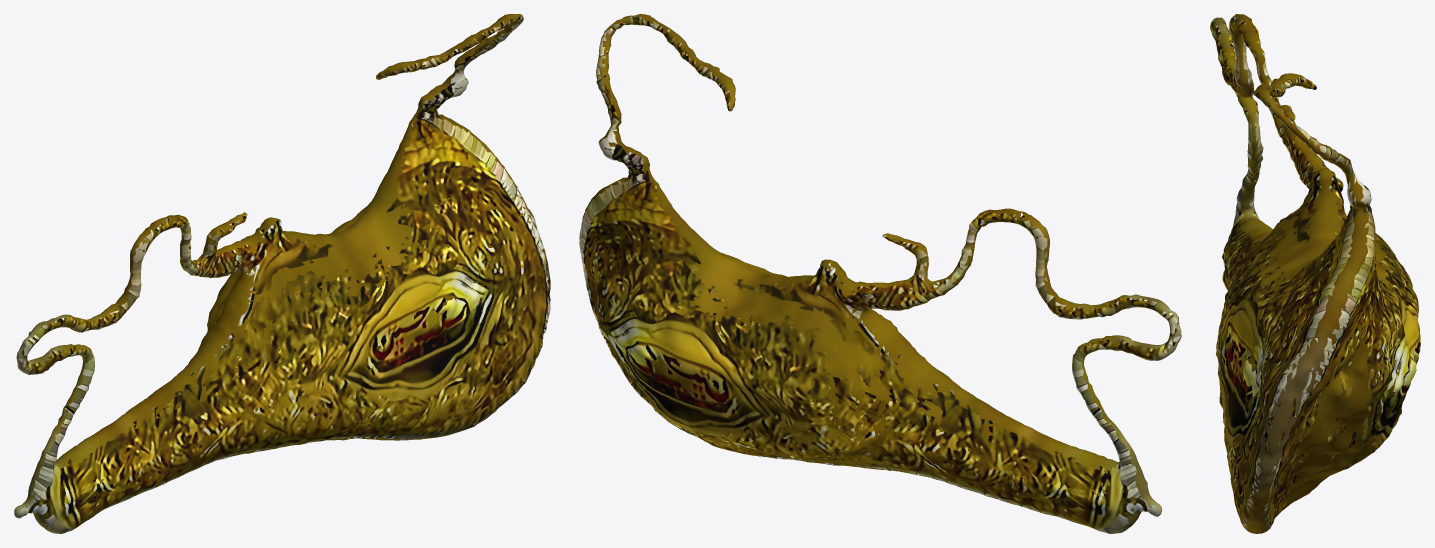
File: kfl-2159.glb
The picture shows the model from 3 angles, left to right: view 1: azimuth 30°, elevation 25°; view 2: azimuth 150°, elevation 25°; view 3: azimuth 270°, elevation 25°; orthographic projection. The views are drawn at different scales.
Visible parts, largest first — view 1: kfl-2159; view 2: kfl-2159; view 3: kfl-2159.
Part boxes in pixels (x1=…): kfl-2159: x1=14, y1=14, x2=550, y2=533; kfl-2159: x1=579, y1=14, x2=1181, y2=533; kfl-2159: x1=1210, y1=14, x2=1420, y2=533.
Size of the model in its own units: 0.9904 by 0.6847 by 0.2787.
Materials: 4 (4 with a texture image).
